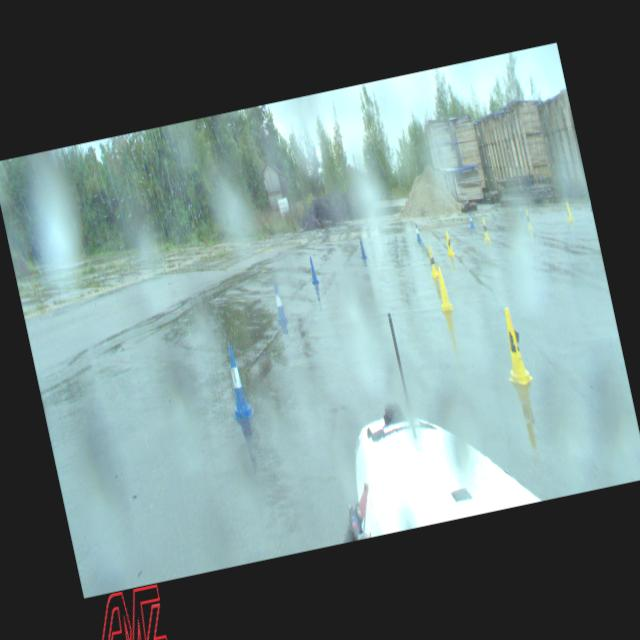blue_cone: (220, 343, 255, 419), (271, 283, 287, 322), (307, 256, 319, 284), (358, 238, 367, 258), (413, 222, 421, 241), (516, 200, 524, 218), (467, 212, 474, 228), (587, 194, 592, 211)
yellow_cone: (493, 305, 533, 388), (433, 266, 452, 312), (425, 246, 439, 276), (443, 230, 454, 256), (480, 217, 490, 240), (524, 209, 532, 229), (564, 201, 572, 221)
